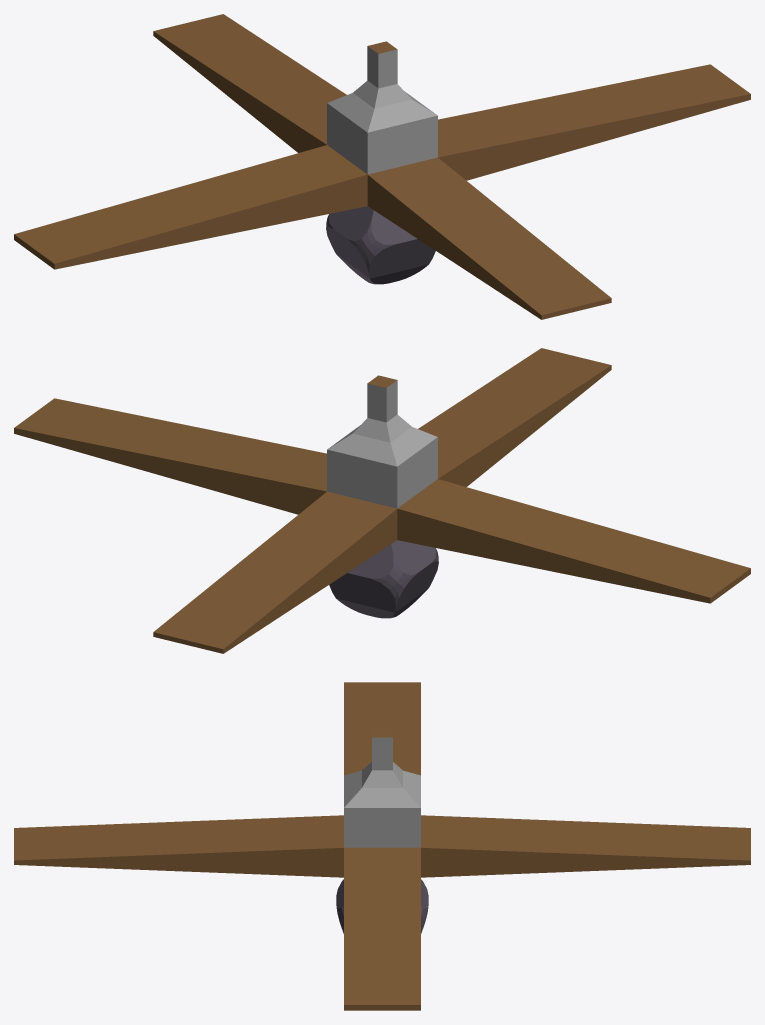
The model's file is CelingFan_)01.fbx.
3 views of the same model, one above another, from view 1: azimuth 30°, elevation 25°; view 2: azimuth 150°, elevation 25°; view 3: azimuth 270°, elevation 25° (orthographic). The views are drawn at different scales.
Parts seen in each view (by area): view 1: Fan_01; view 2: Fan_01; view 3: Fan_01.
Boxes of the visible parts, <box> form: Fan_01: <box>14,14,750,319</box>; Fan_01: <box>14,348,750,653</box>; Fan_01: <box>14,682,750,1010</box>.
Size of the model in its own units: 947 by 294 by 914.
